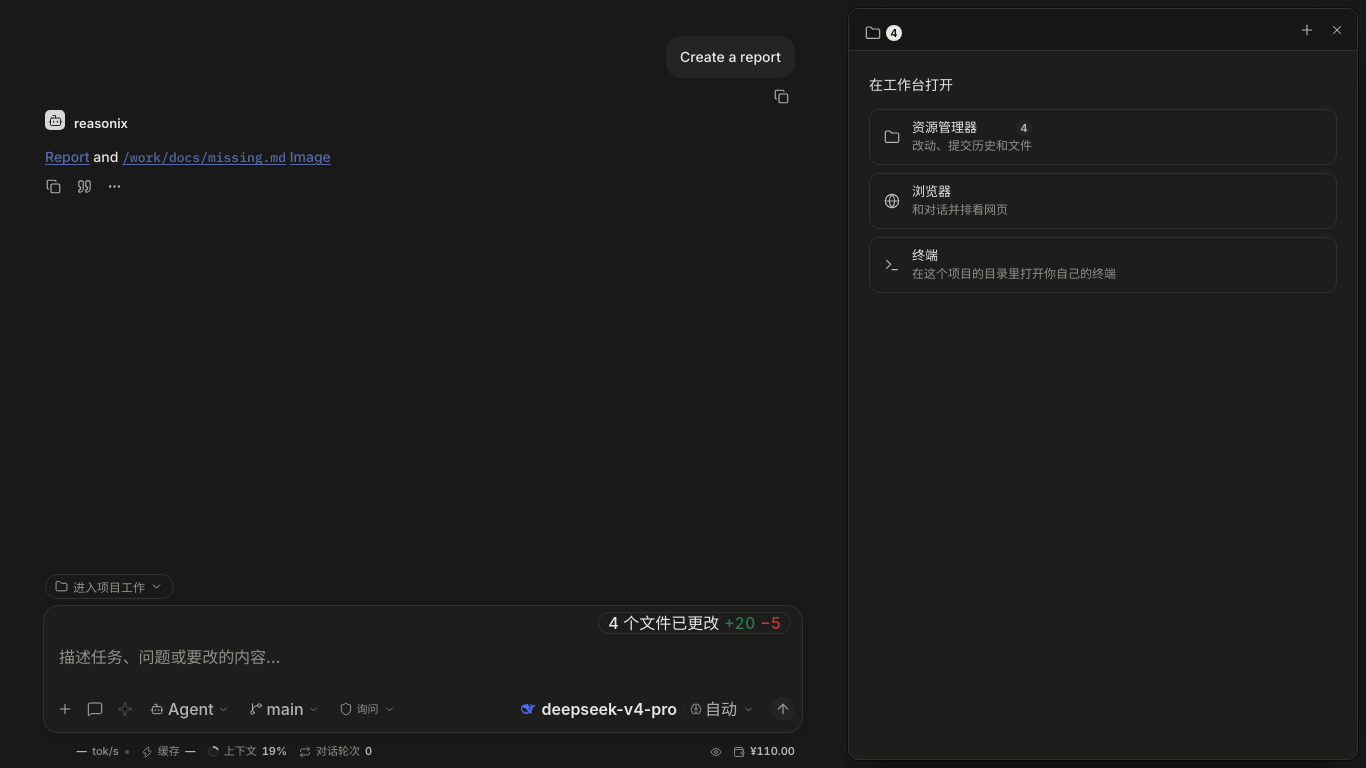
Test case: offers file actions on right-click and restores focus to the link
The width and height of the screenshot is (1366, 768).
Right-click the link "Report" at (67, 157), box [45,148,90,165]
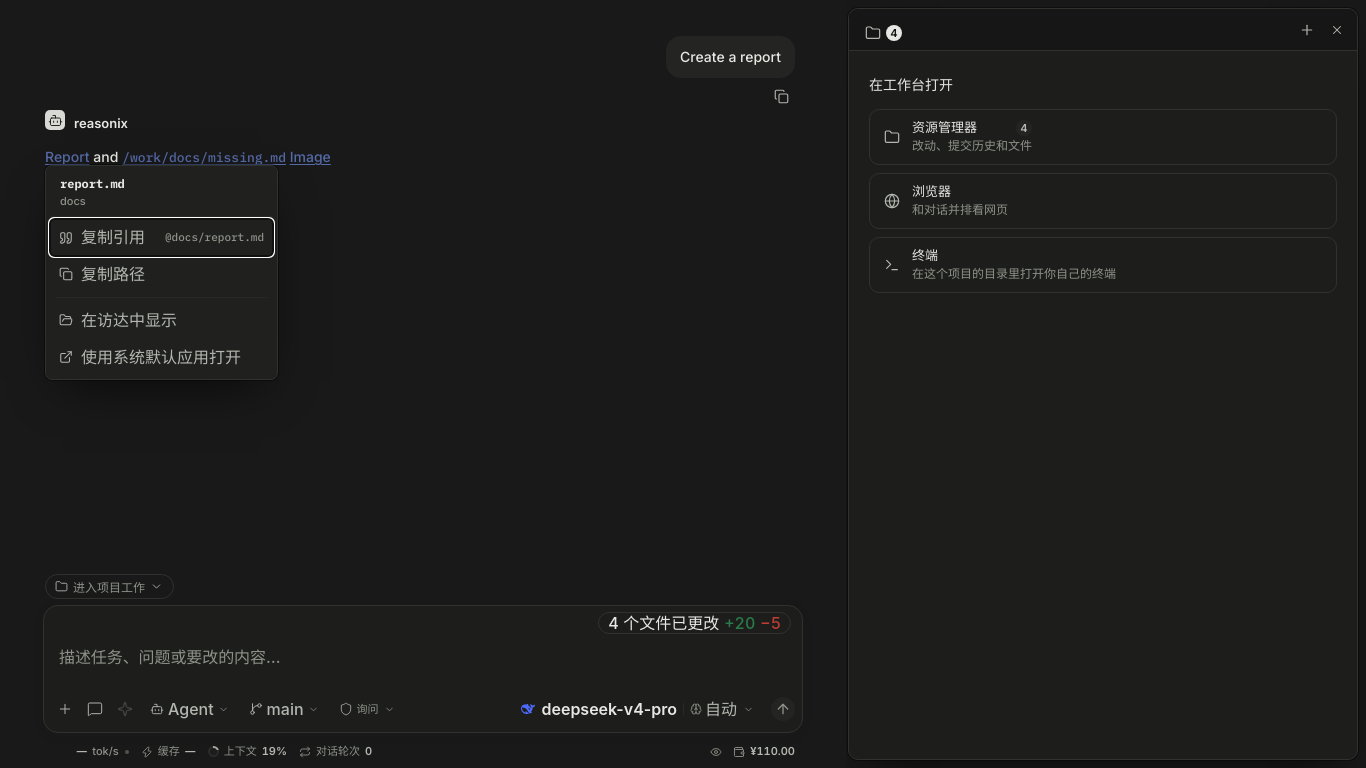
Click the menu item "在访达中显示" at (162, 320), box [50,302,273,339]
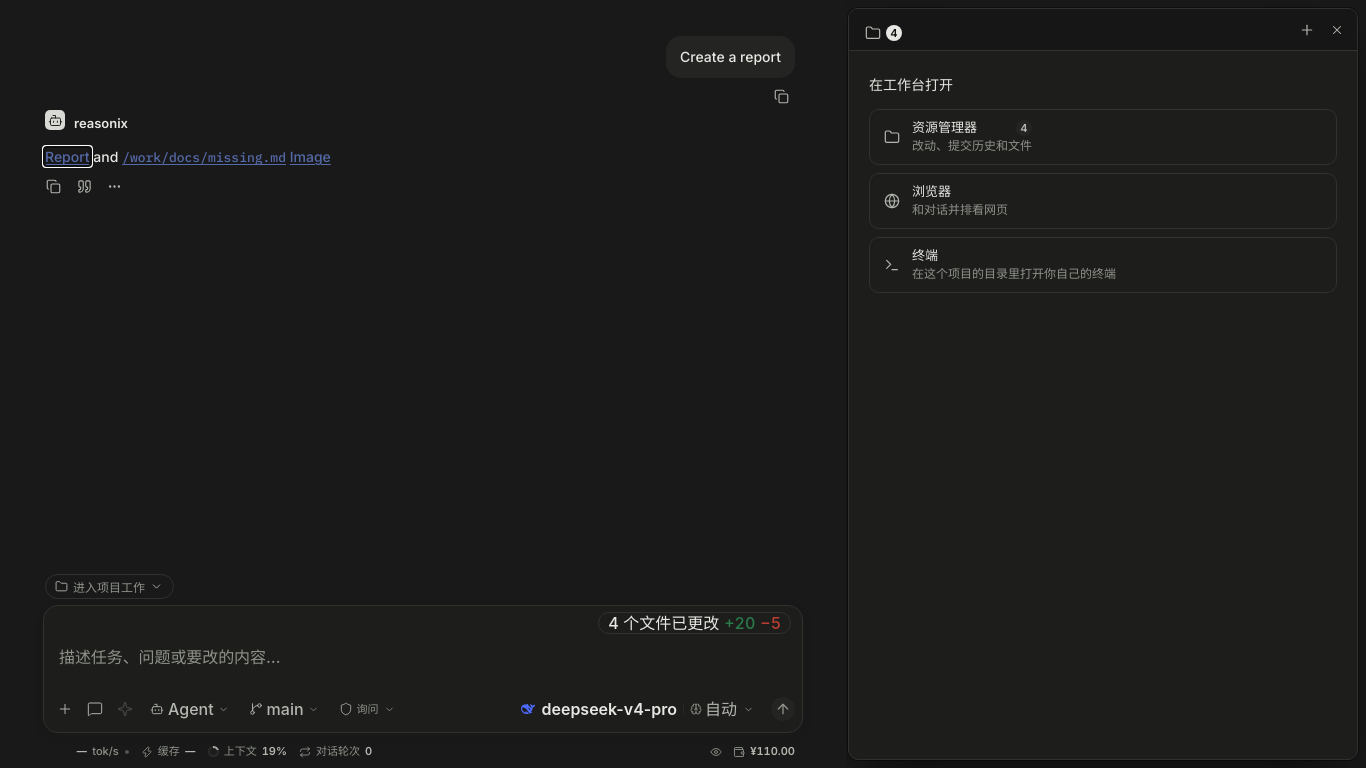
Result: the menu is gone
Press F10 in the link "Report", box [45,148,90,165]
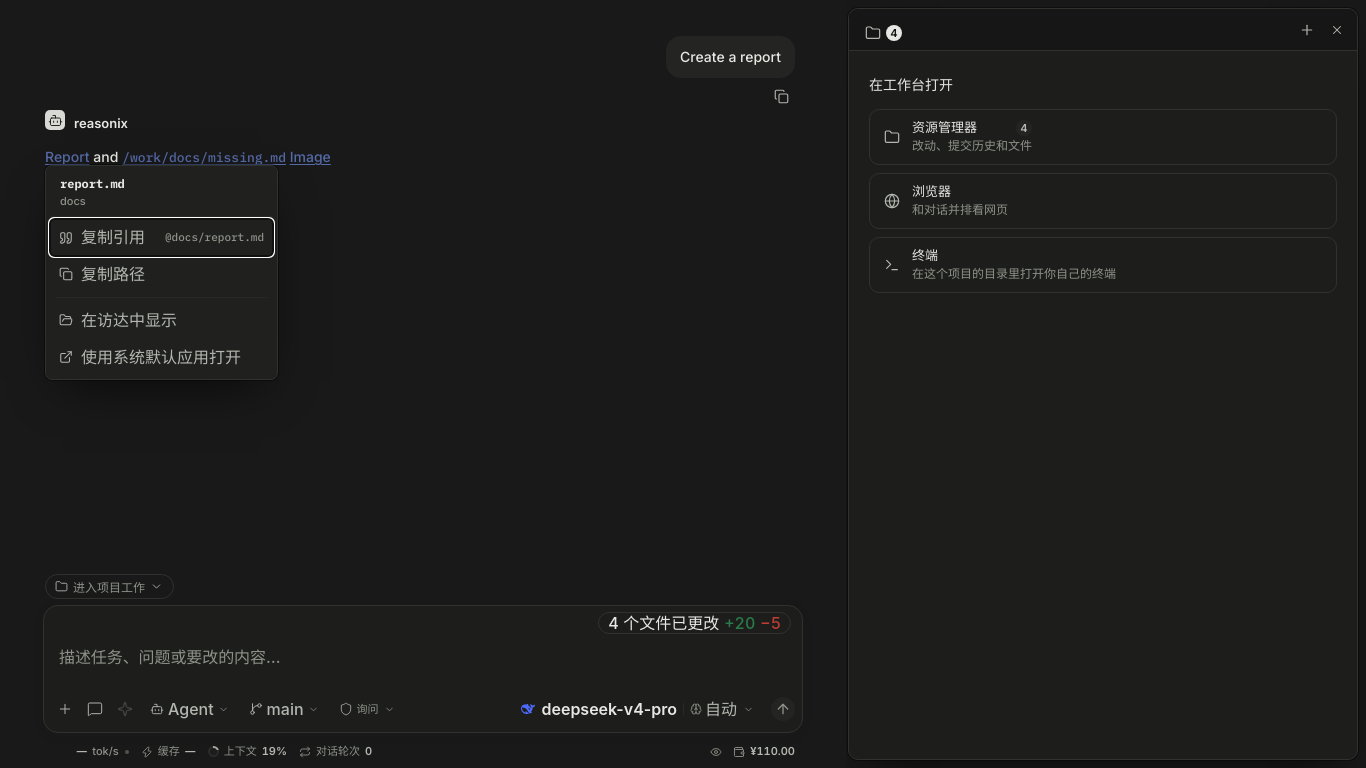
Result: the menu item "复制路径" is shown at [50,256,273,293]
Press Escape
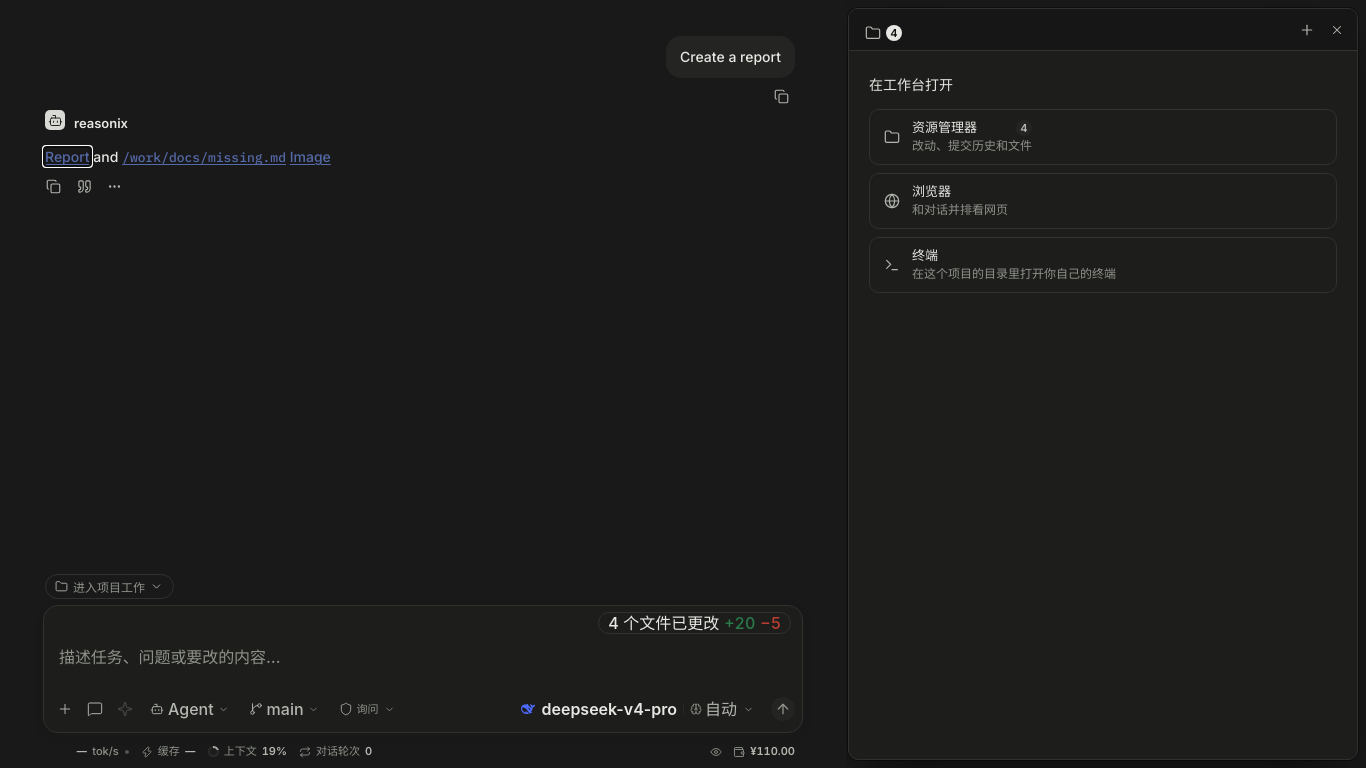
Result: the menu is gone
